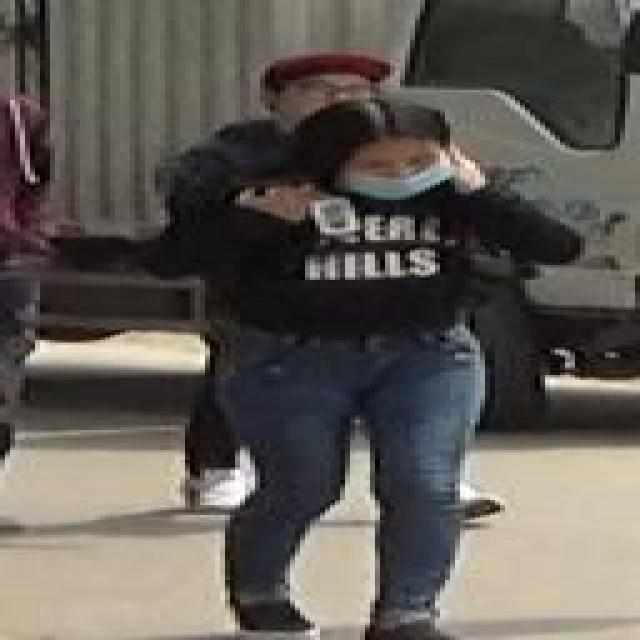adult: (136, 114, 558, 622), (182, 51, 494, 502)
